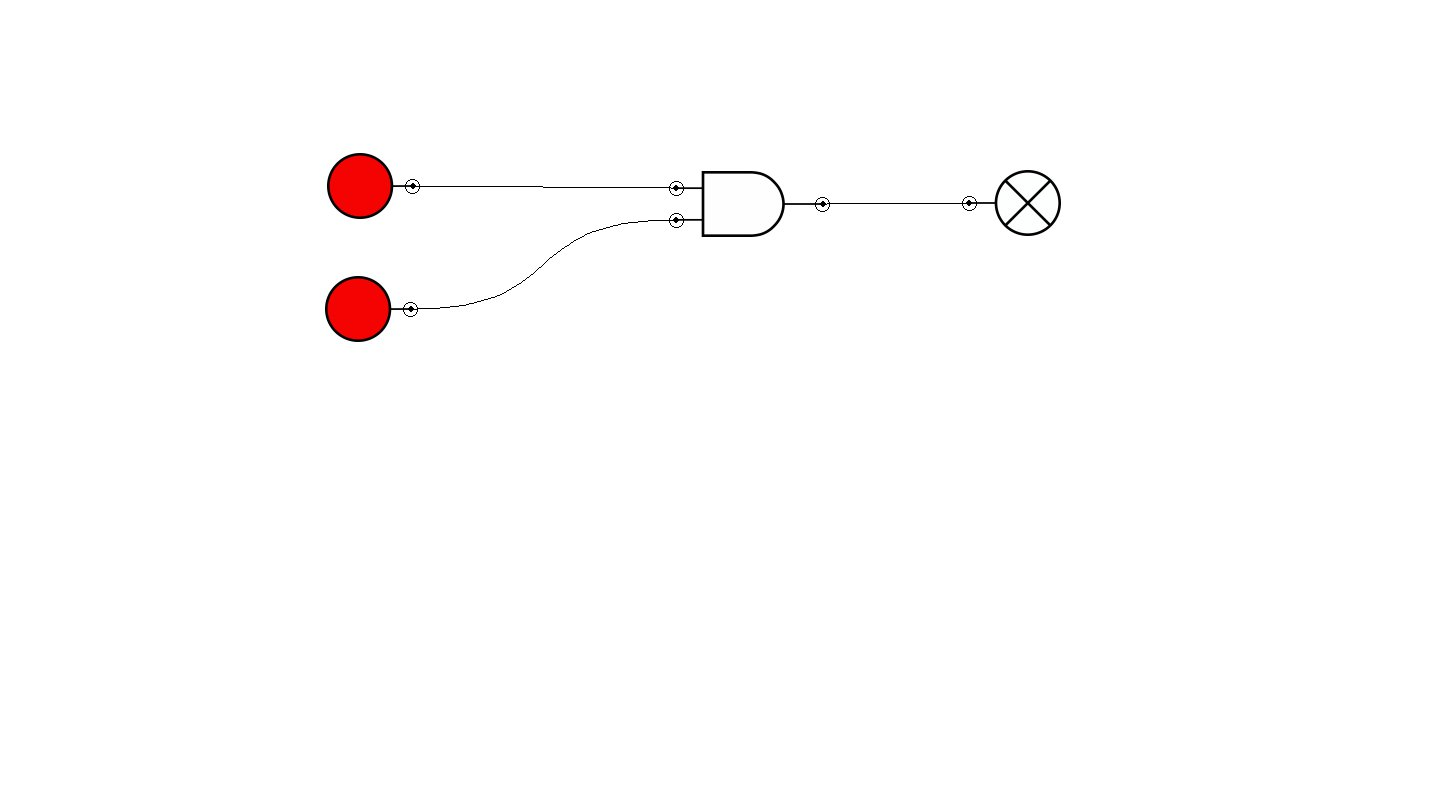and: (669, 171, 830, 237)
bulb: (962, 170, 1061, 236)
switch_False: (325, 276, 418, 342), (327, 153, 420, 219)
